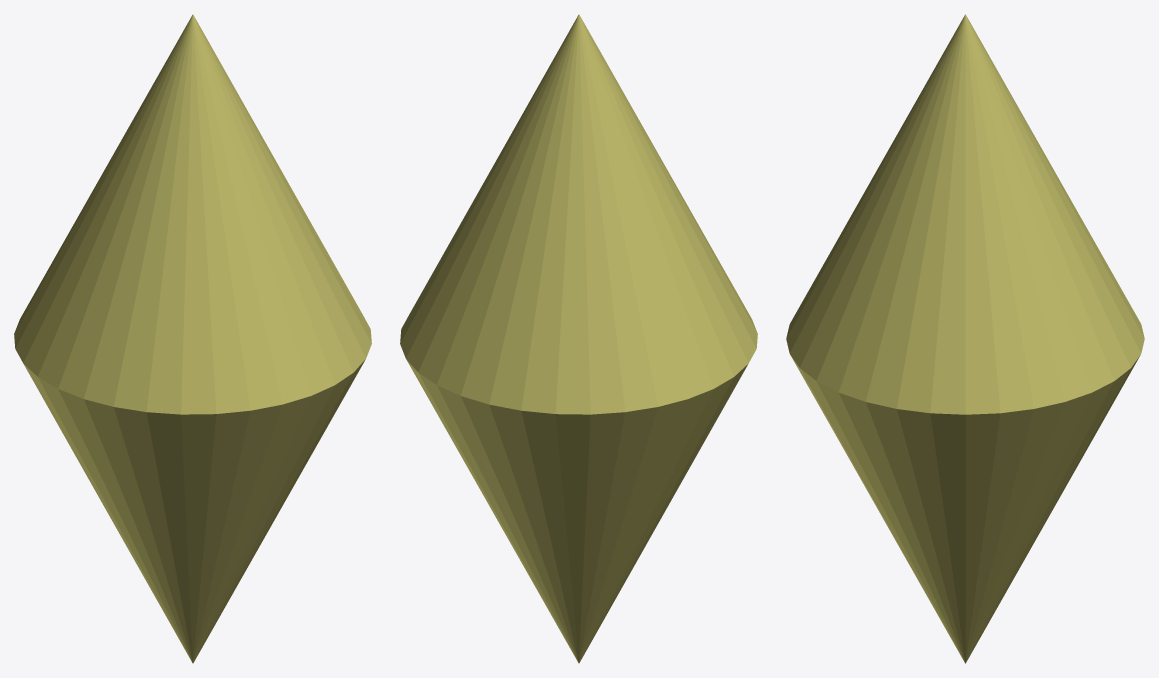
Rendered from Seed.glb.
The picture shows the model from 3 angles, left to right: view 1: azimuth 30°, elevation 25°; view 2: azimuth 150°, elevation 25°; view 3: azimuth 270°, elevation 25°; orthographic projection.
Parts seen in each view (by area): view 1: Cone, Cone.001; view 2: Cone, Cone.001; view 3: Cone, Cone.001.
Part boxes in pixels (x1,y1,x2,y2): Cone: (14, 14, 371, 414); Cone.001: (24, 359, 365, 663); Cone: (400, 14, 757, 414); Cone.001: (406, 359, 747, 663); Cone: (786, 14, 1144, 414); Cone.001: (790, 355, 1140, 663).
Size of the model in its own units: 0.5971 by 1.19 by 0.5971.
